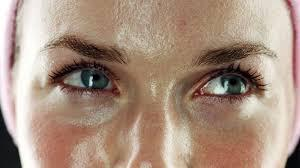Oily-Skin: (32, 8, 244, 143)
